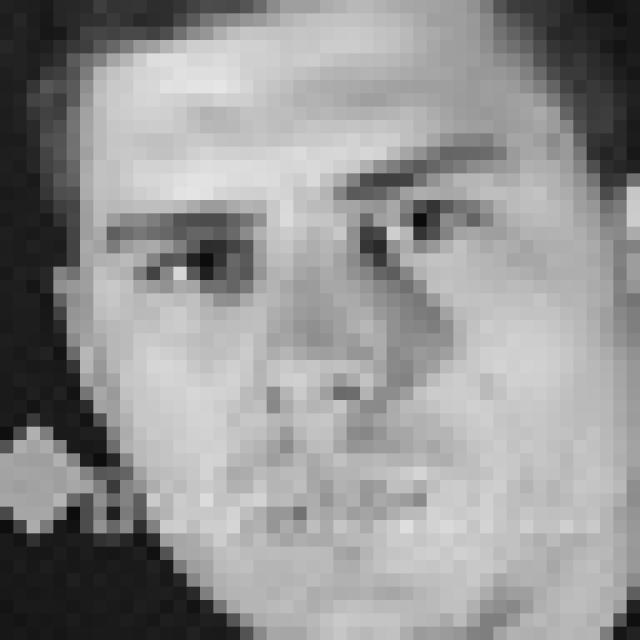neutral: (98, 124, 516, 566)
